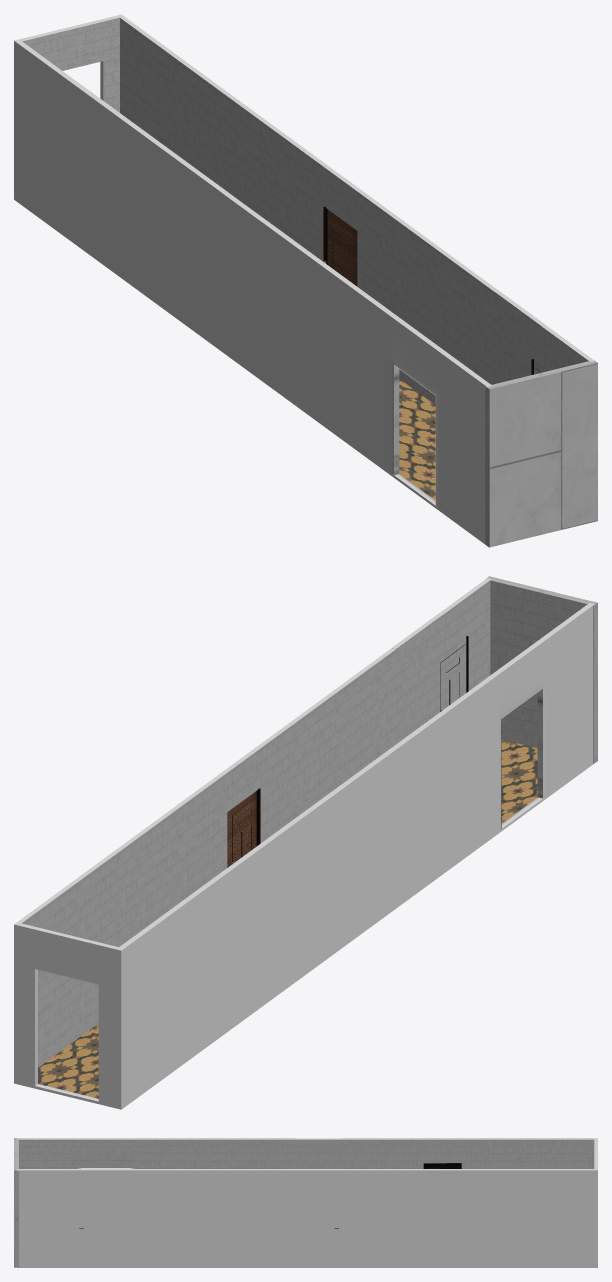
The model's file is Pasillo (1).fbx.
3 renders of one model, top to bottom at view 1: azimuth 30°, elevation 25°; view 2: azimuth 150°, elevation 25°; view 3: azimuth 270°, elevation 25°, orthographic. The views are drawn at different scales.
Visible parts, largest first — view 1: Pasillo, Pared trasera; view 2: Pasillo, Pared trasera; view 3: Pasillo, Pared trasera, Puerta.001.
Boxes of the visible parts, x1,y1,x2,y2 form: Pasillo: (14,14,594,544); Pared trasera: (485,360,597,547); Pasillo: (14,578,594,1109); Pared trasera: (486,576,597,763); Pasillo: (17,1138,597,1267); Pared trasera: (14,1138,18,1267); Puerta.001: (423,1163,461,1168).
Size of the model in its own units: 272 by 376 by 2035.
Materials: 12 (8 with a texture image).
